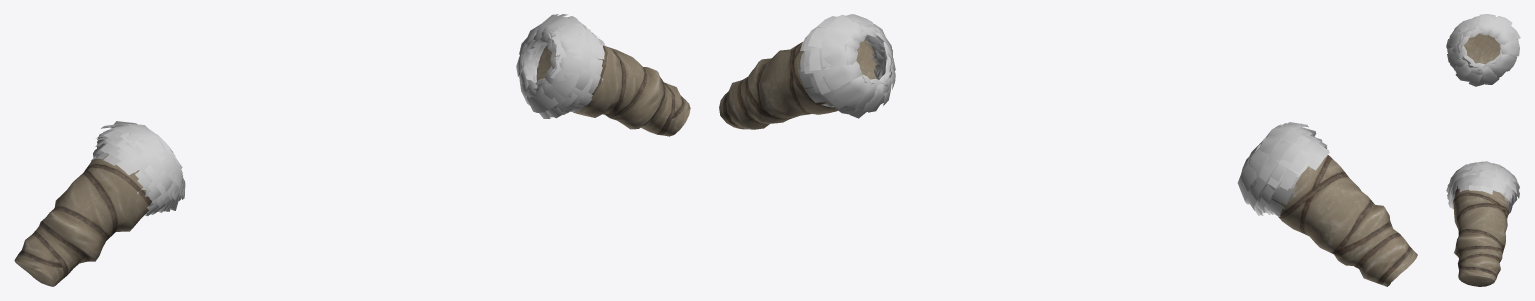
File: dunland_wulf_bracer_light_c.fbx
3 views of the same model, side by side, from view 1: azimuth 30°, elevation 25°; view 2: azimuth 150°, elevation 25°; view 3: azimuth 270°, elevation 25° (orthographic). The views are drawn at different scales.
Visible parts, largest first — view 1: dunland_wulf_bracer_light_c.0, dunland_wulf_bracer_light_c.1; view 2: dunland_wulf_bracer_light_c.0, dunland_wulf_bracer_light_c.1; view 3: dunland_wulf_bracer_light_c.1, dunland_wulf_bracer_light_c.0.
Boxes of the visible parts, x1,y1,x2,y2 form: dunland_wulf_bracer_light_c.0: (14,45,690,286); dunland_wulf_bracer_light_c.1: (91,14,605,216); dunland_wulf_bracer_light_c.0: (719,39,1417,286); dunland_wulf_bracer_light_c.1: (798,14,1329,216); dunland_wulf_bracer_light_c.1: (1446,14,1520,214); dunland_wulf_bracer_light_c.0: (1453,33,1508,286).
Bounding box in the file's own units: 1.38 × 0.1933 × 0.263.
